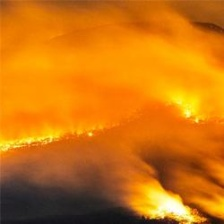fire: (1, 107, 133, 162), (122, 180, 209, 224), (168, 96, 210, 132)
